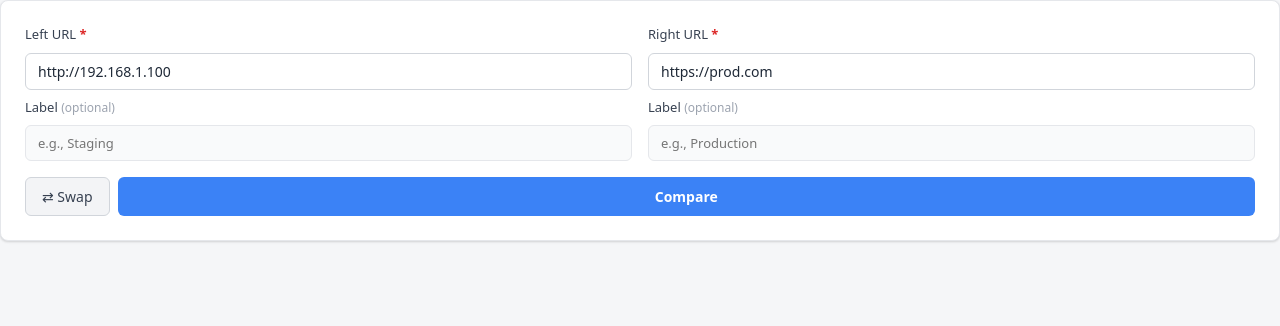
Test case: ControlPlane › shows private IP warning for private IP ranges
The width and height of the screenshot is (1280, 326).
Click the button "Compare": (686, 196) x1=118 y1=177 x2=1255 y2=216
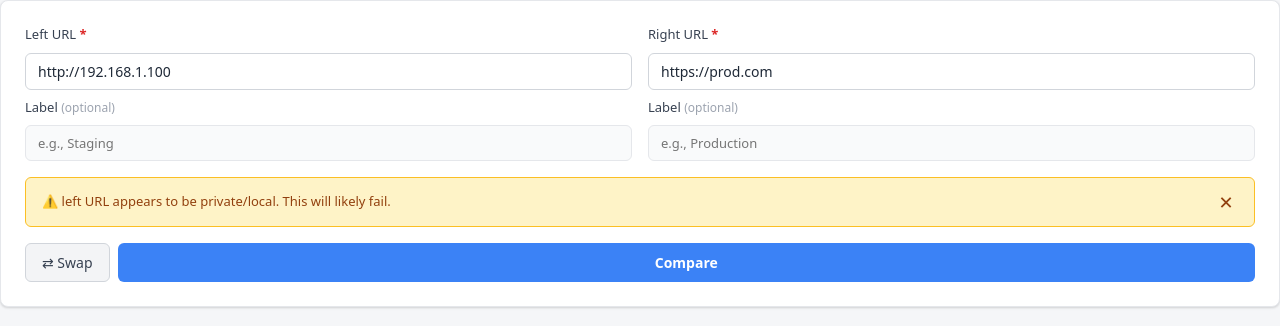
Check: the text "left URL appears to be private" is shown, box x1=62 y1=192 x2=276 y2=210
